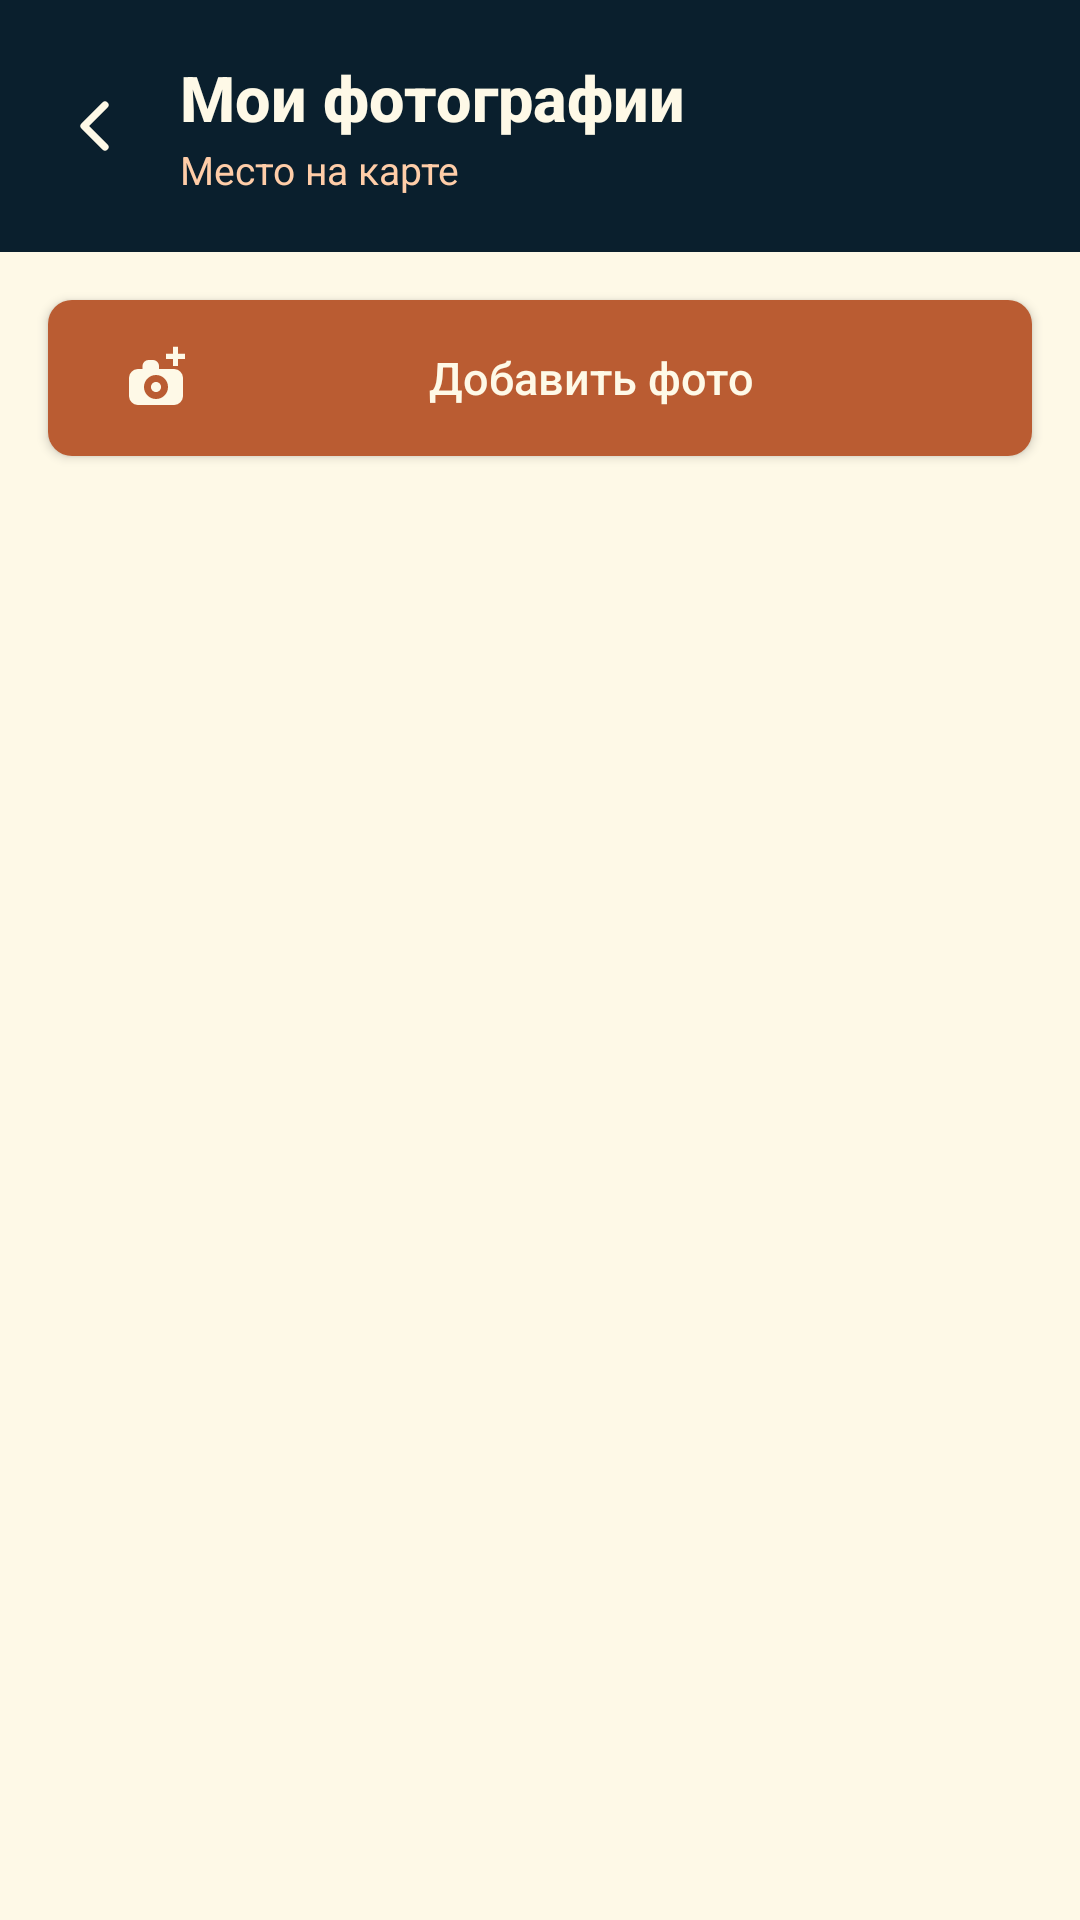

Screen size 1080px x 1920px. Icon name, then its center in pixels as (x,y):
Назад: (94,126)
